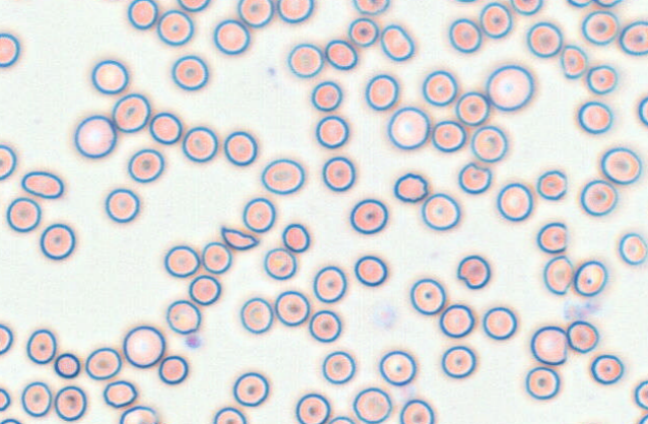PLT: (184, 335, 201, 352)
RBC: (485, 64, 534, 111), (122, 325, 165, 368), (387, 106, 430, 149), (74, 114, 116, 158), (260, 158, 304, 194), (111, 92, 150, 132), (600, 146, 641, 184), (420, 192, 460, 230), (530, 325, 567, 365), (352, 386, 392, 423), (580, 178, 618, 216), (496, 182, 533, 221), (378, 349, 416, 386), (409, 277, 446, 315), (349, 198, 388, 234), (470, 125, 507, 162), (156, 9, 194, 45), (213, 18, 250, 54), (287, 42, 324, 78), (181, 126, 218, 162), (171, 54, 208, 90), (39, 223, 75, 260), (312, 265, 347, 303), (581, 10, 619, 45), (274, 290, 310, 326), (526, 21, 562, 57), (422, 69, 457, 106), (232, 371, 269, 406), (364, 73, 399, 110), (91, 59, 128, 94), (127, 148, 164, 183), (380, 23, 414, 61), (165, 299, 201, 334), (6, 196, 41, 232), (104, 187, 139, 223), (573, 259, 607, 296), (20, 170, 63, 199), (439, 303, 474, 338), (448, 17, 482, 53), (223, 130, 257, 166), (321, 155, 355, 191), (577, 100, 613, 134), (84, 347, 121, 380), (240, 296, 273, 333), (479, 1, 512, 38), (525, 366, 560, 400), (482, 306, 517, 340), (54, 385, 87, 421), (164, 244, 200, 277), (242, 197, 275, 233), (321, 350, 355, 384), (455, 91, 489, 125), (431, 119, 466, 152), (441, 345, 476, 378), (315, 115, 349, 148), (589, 353, 624, 385), (21, 381, 52, 417), (566, 320, 599, 353), (308, 309, 341, 342), (263, 247, 296, 280), (149, 111, 182, 144), (393, 172, 428, 203), (295, 392, 330, 423), (26, 328, 56, 364), (354, 254, 387, 286), (536, 221, 568, 253), (188, 274, 221, 305), (201, 241, 232, 274), (324, 39, 357, 70), (237, 0, 274, 27), (310, 80, 342, 111), (102, 380, 137, 408), (619, 20, 647, 55), (536, 169, 567, 200), (347, 17, 379, 47), (618, 232, 647, 265), (586, 64, 617, 94), (158, 355, 188, 385), (127, 0, 158, 29), (399, 398, 434, 423), (281, 222, 310, 252), (276, 0, 313, 23), (119, 405, 158, 424), (53, 352, 80, 378), (0, 32, 20, 67), (0, 143, 16, 180), (212, 406, 246, 423), (352, 0, 389, 15), (509, 0, 543, 15), (0, 323, 13, 355), (176, 0, 210, 12), (634, 379, 647, 410), (638, 95, 647, 126), (0, 387, 10, 411), (327, 415, 355, 423), (594, 0, 623, 7), (566, 0, 592, 7), (0, 417, 21, 424), (637, 413, 647, 423), (447, 0, 479, 3), (578, 421, 604, 424), (91, 0, 128, 2)
Schistocyte: (546, 256, 575, 296), (457, 255, 490, 289), (562, 44, 588, 82), (221, 227, 260, 250), (461, 165, 491, 194)
